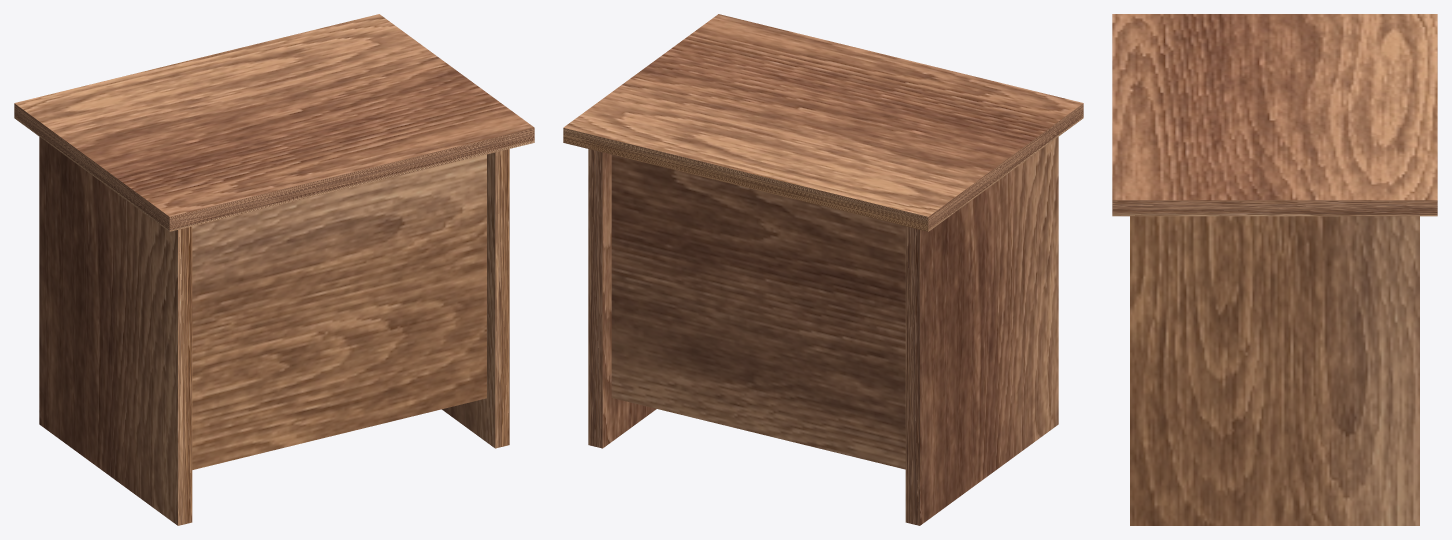
Rendered from Table.fbx.
The picture shows the model from 3 angles, left to right: view 1: azimuth 30°, elevation 25°; view 2: azimuth 150°, elevation 25°; view 3: azimuth 270°, elevation 25°; orthographic projection. The views are drawn at different scales.
Parts seen in each view (by area): view 1: polySurface7; view 2: polySurface7; view 3: polySurface7.
Part boxes in pixels (<box>): polySurface7: <box>14,14,534,525</box>; polySurface7: <box>563,14,1083,525</box>; polySurface7: <box>1112,14,1437,525</box>.
Bounding box in the file's own units: 76 × 63.5 × 56.
Materials: 3 (3 with a texture image).
